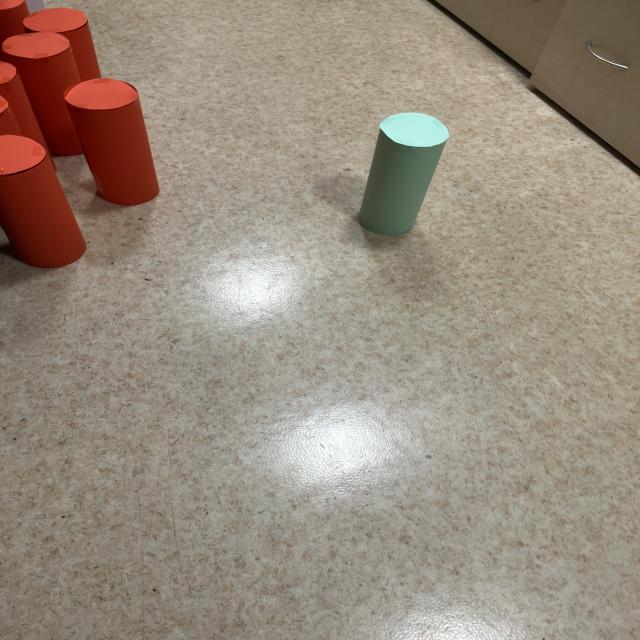meta: (359, 113, 449, 235)
